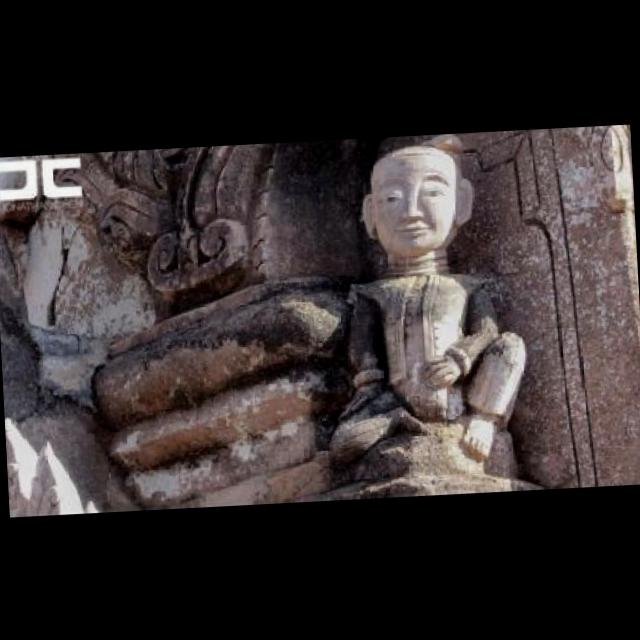Person: (348, 144, 526, 470)
